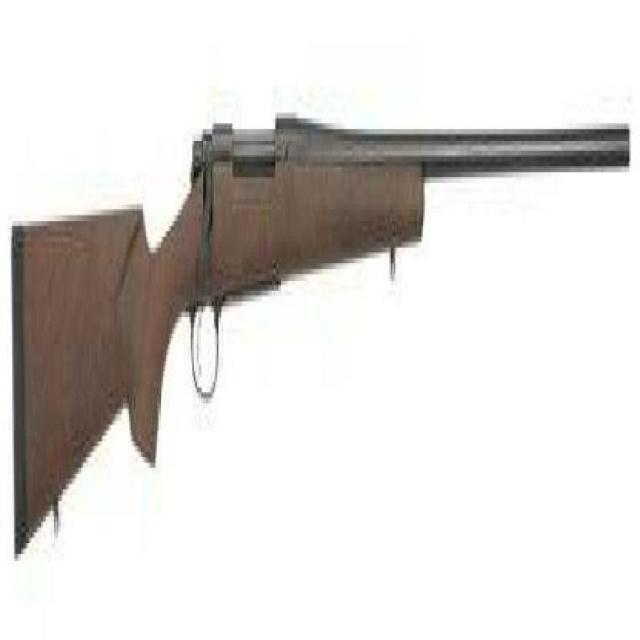weapon: (12, 112, 633, 560)
